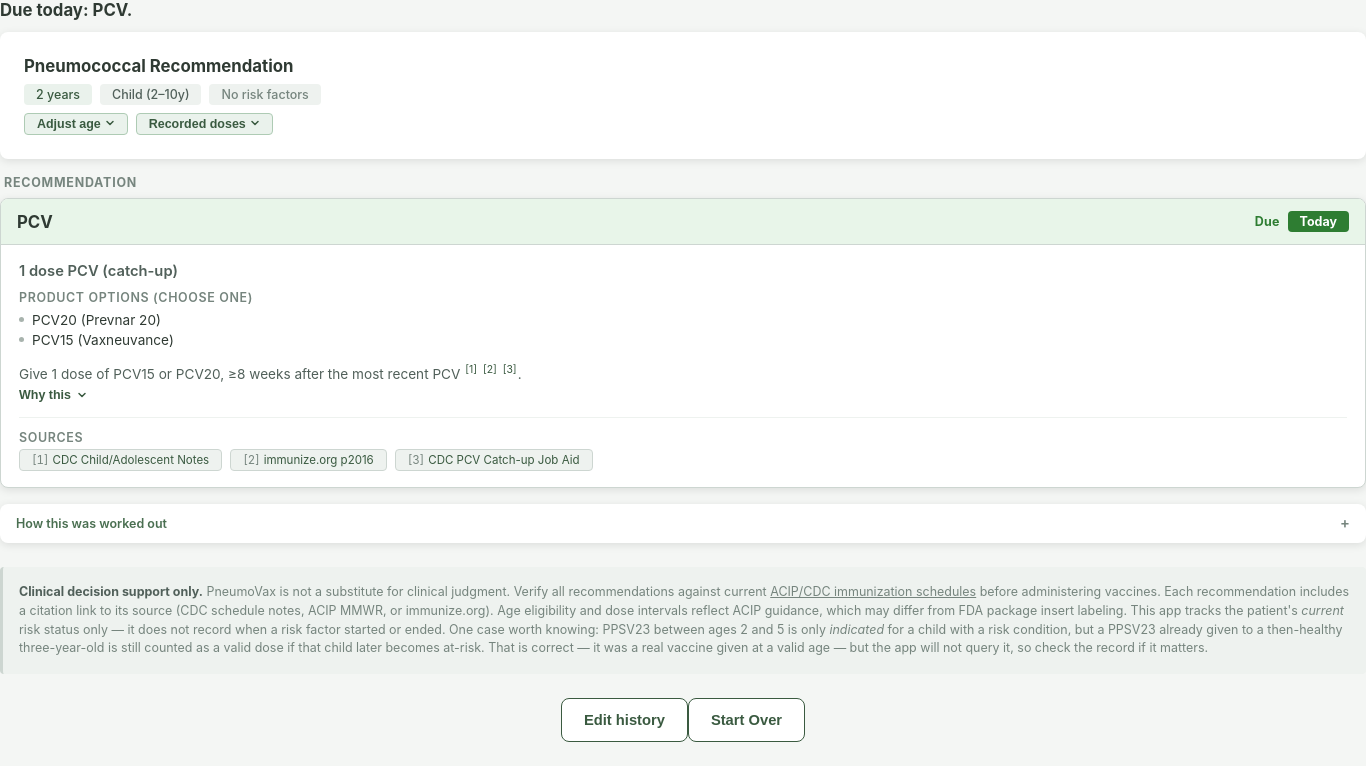
S9 — the dose editor has one home › the details-unknown tick, on both surfaces › results withdraws it once a PCV product is chosen
Click the button "Recorded doses" at {"x": 204, "y": 124}, box [136,113,273,135]
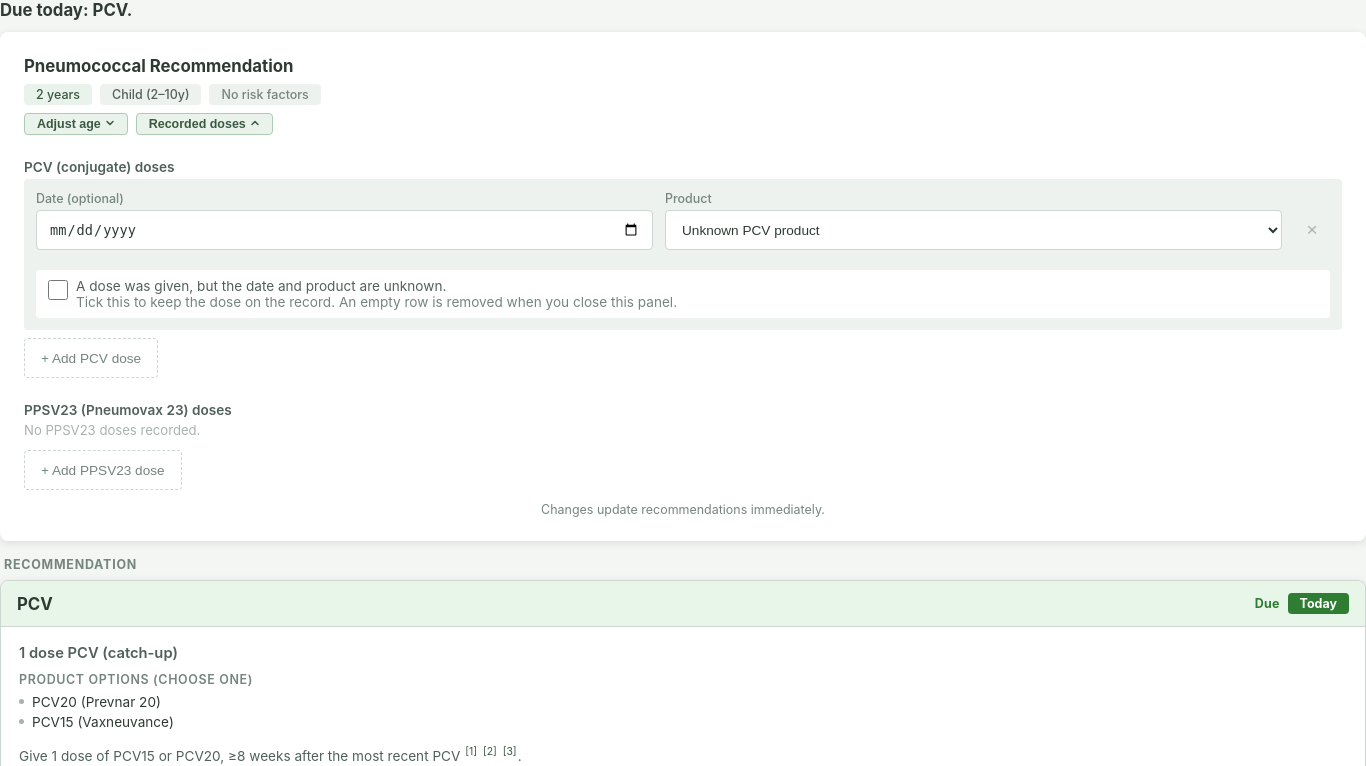
Now the number of checkboxes labelled "A dose was given, but the date and product are unknown" is 1, box [48,280,68,300]
Select "PCV13 (Prevnar 13)" in the dropdown labelled "Product" at {"x": 974, "y": 230}, box [665,210,1282,250]
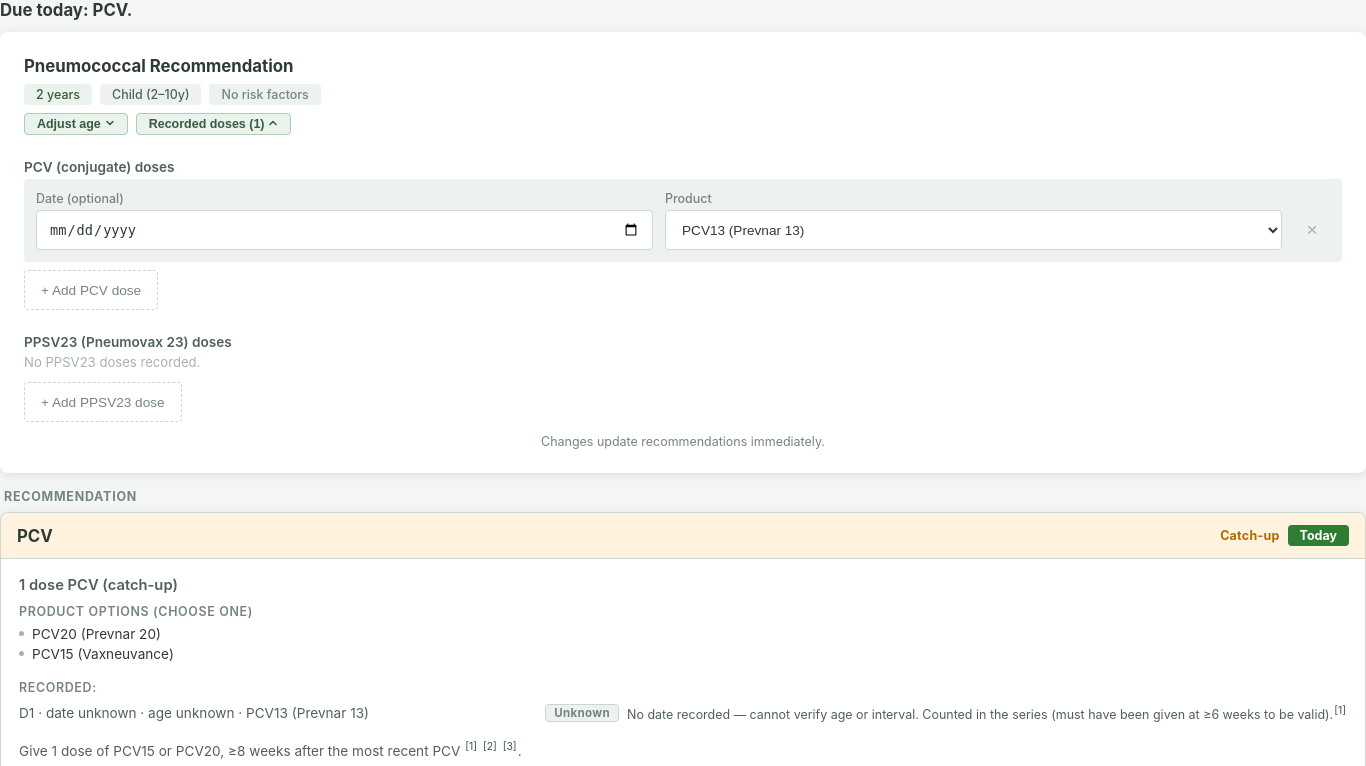
Now no checkboxes labelled "A dose was given, but the date and product are unknown" are shown
